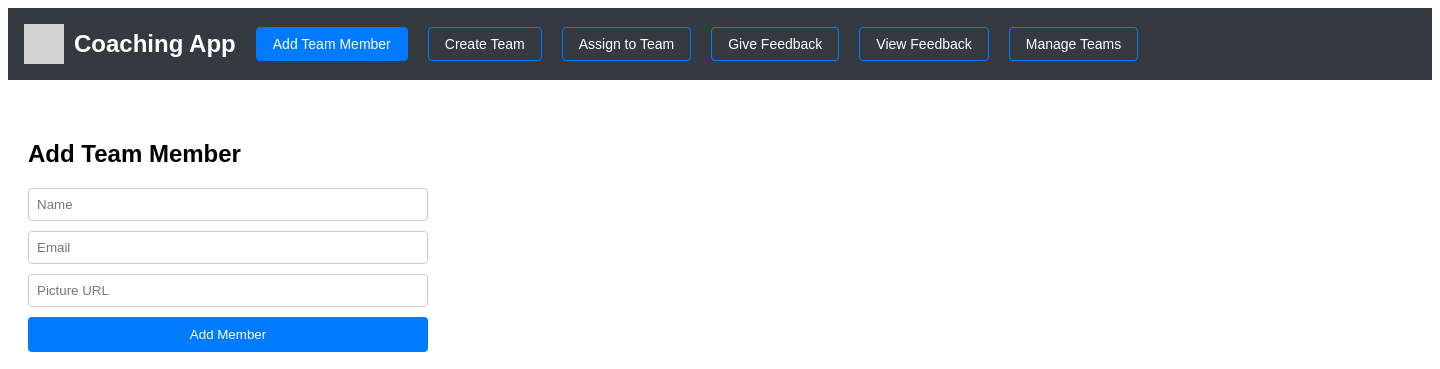
Test: App › navigates to Create Team page
What coordinates should you click on to do the following:
click the button "Create Team"
I would click on:
 (485, 44)
Its box is top-left (428, 27), bottom-right (542, 61).
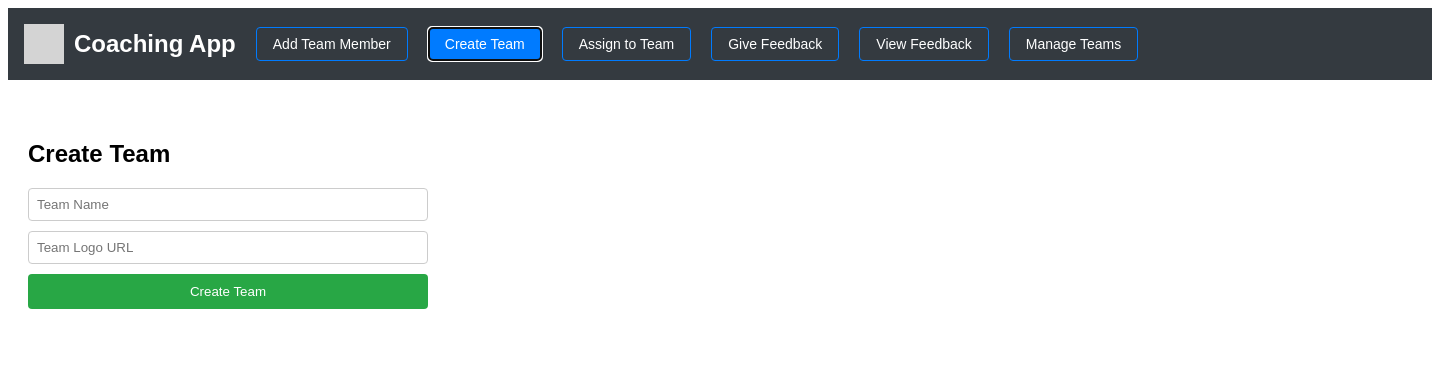
Now the heading "Create Team" is shown, box top-left (28, 140), bottom-right (170, 167)
Now the field with placeholder "Team Name" is shown, box top-left (28, 188), bottom-right (428, 221)
